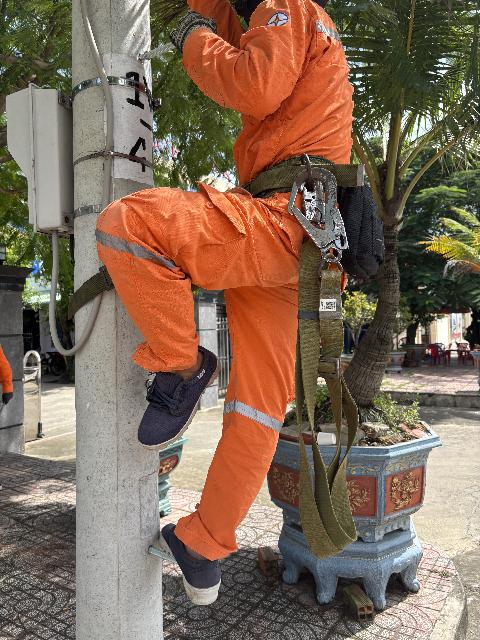gloves: (171, 16, 224, 51)
harness: (231, 137, 379, 211)
shoes: (128, 341, 221, 457), (155, 498, 241, 613)
